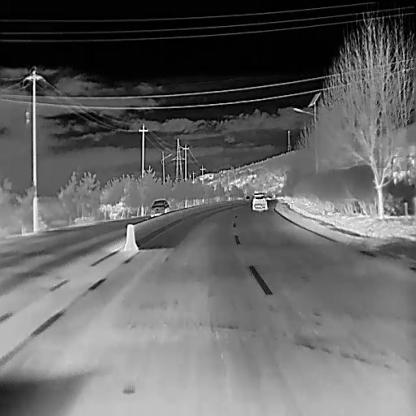car: (149, 198, 169, 217), (252, 192, 266, 210), (246, 195, 250, 201)
